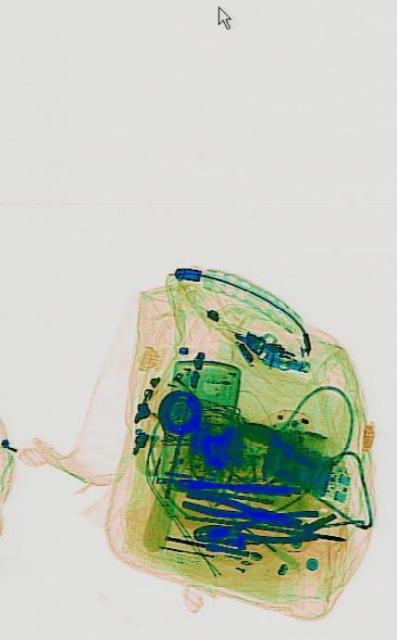Pliers: (181, 482, 300, 536), (193, 506, 318, 552)
